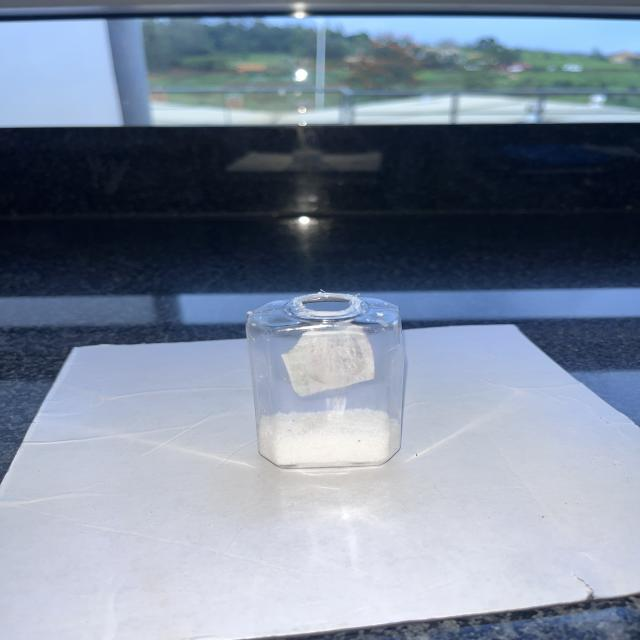salt: (256, 408, 404, 473)
